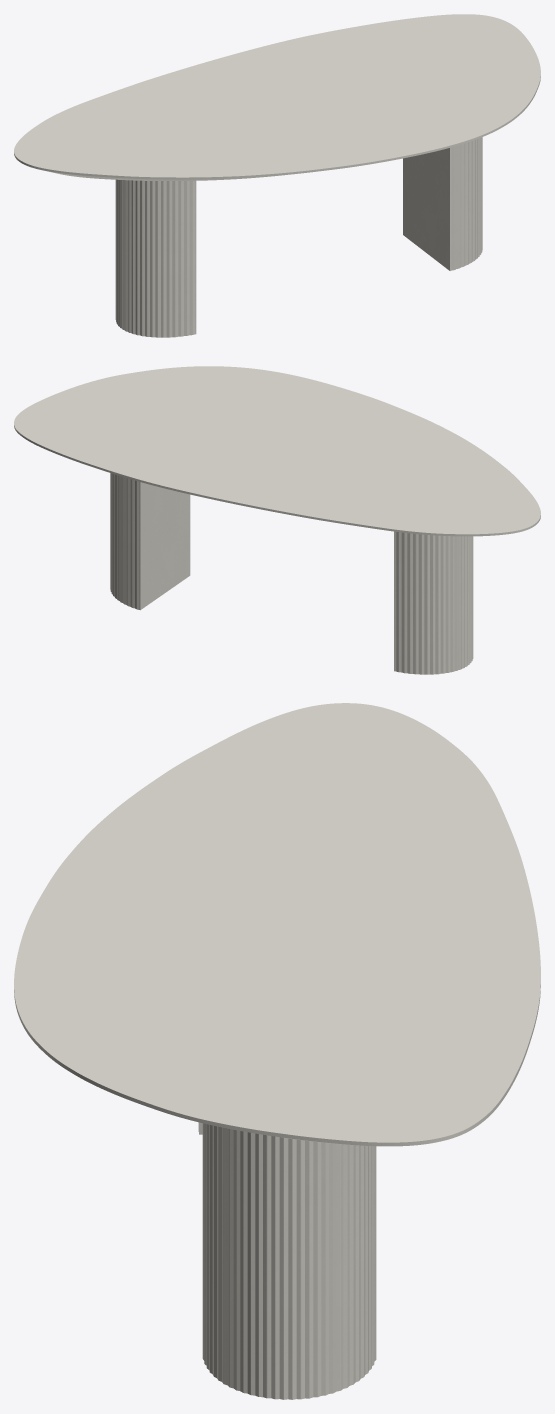
The model's file is pale_pebbletop_facet_flute.glb.
The picture shows the model from 3 angles, top to bottom: view 1: azimuth 30°, elevation 25°; view 2: azimuth 150°, elevation 25°; view 3: azimuth 270°, elevation 25°; orthographic projection. The views are drawn at different scales.
Visible parts, largest first — view 1: facet_pebbletop, flute; view 2: facet_pebbletop, flute; view 3: facet_pebbletop, flute.
Part boxes in pixels (bbox=[...]): facet_pebbletop: bbox=[14, 14, 540, 180]; flute: bbox=[115, 137, 482, 337]; facet_pebbletop: bbox=[14, 366, 540, 536]; flute: bbox=[110, 473, 473, 674]; facet_pebbletop: bbox=[14, 703, 540, 1146]; flute: bbox=[198, 1122, 376, 1399].
Bounding box in the file's own units: 7.5 × 2.5 × 3.8.
1 material, 1 textured.
